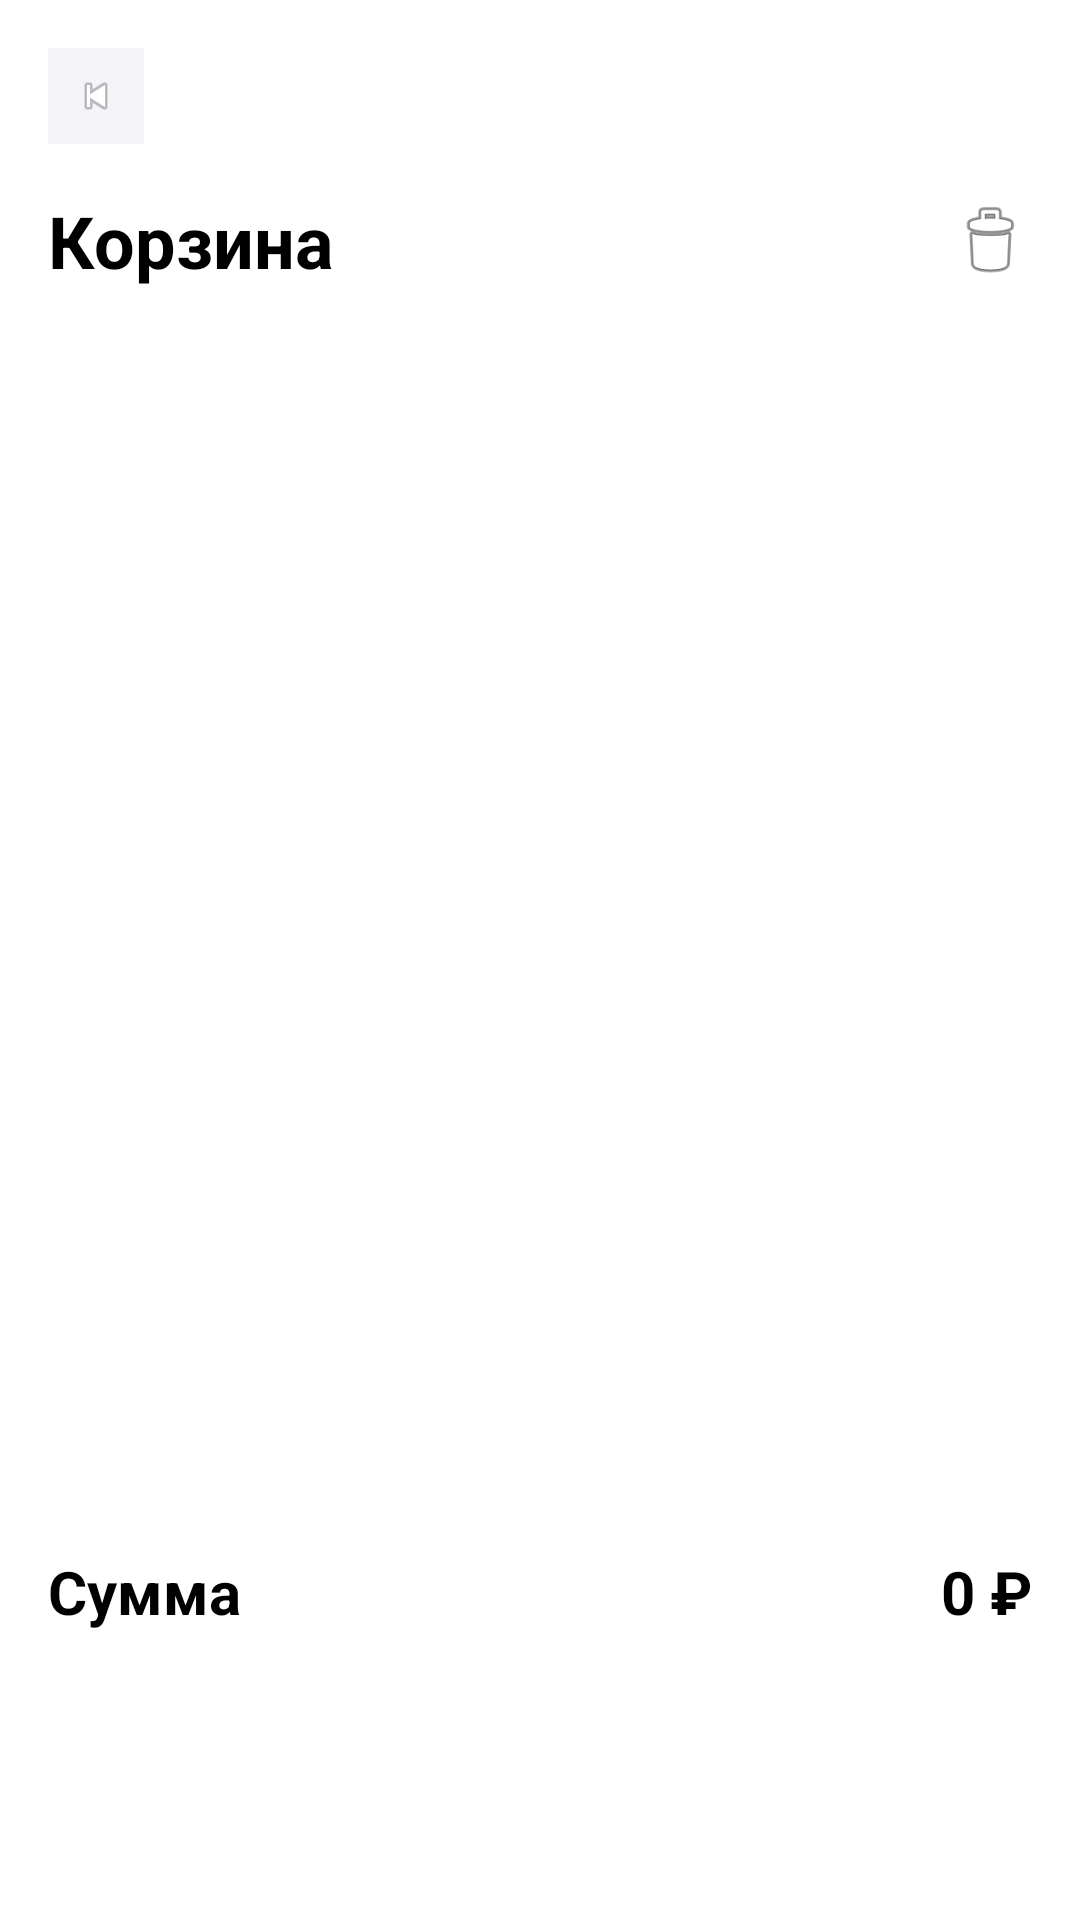

Locate icon controls on the screen. Image size 1080*1920, boxes as (left=x1, top=y1, right=x2, bottom=y2).
delete: (left=967, top=207, right=1014, bottom=273)
